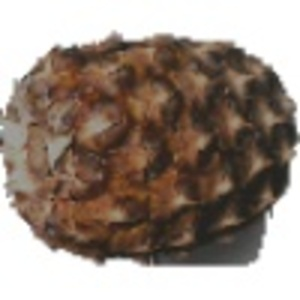abacaxi: (2, 30, 294, 258)
